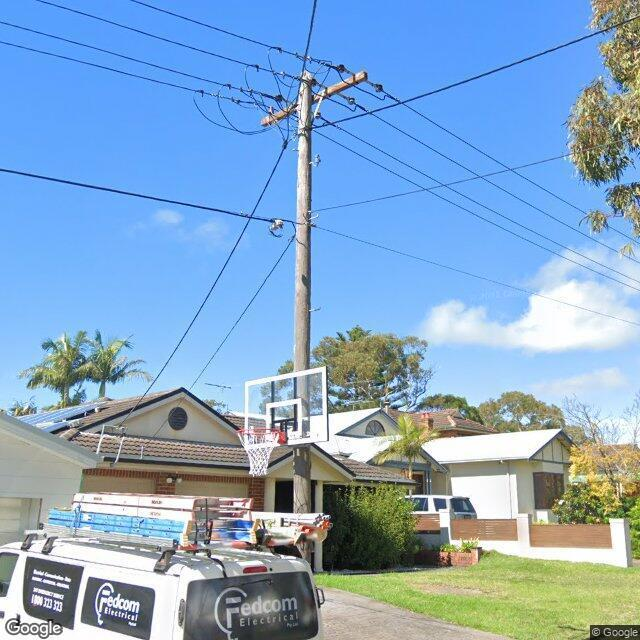crossarm: (260, 70, 368, 128)
timber-pole: (293, 71, 312, 571)
